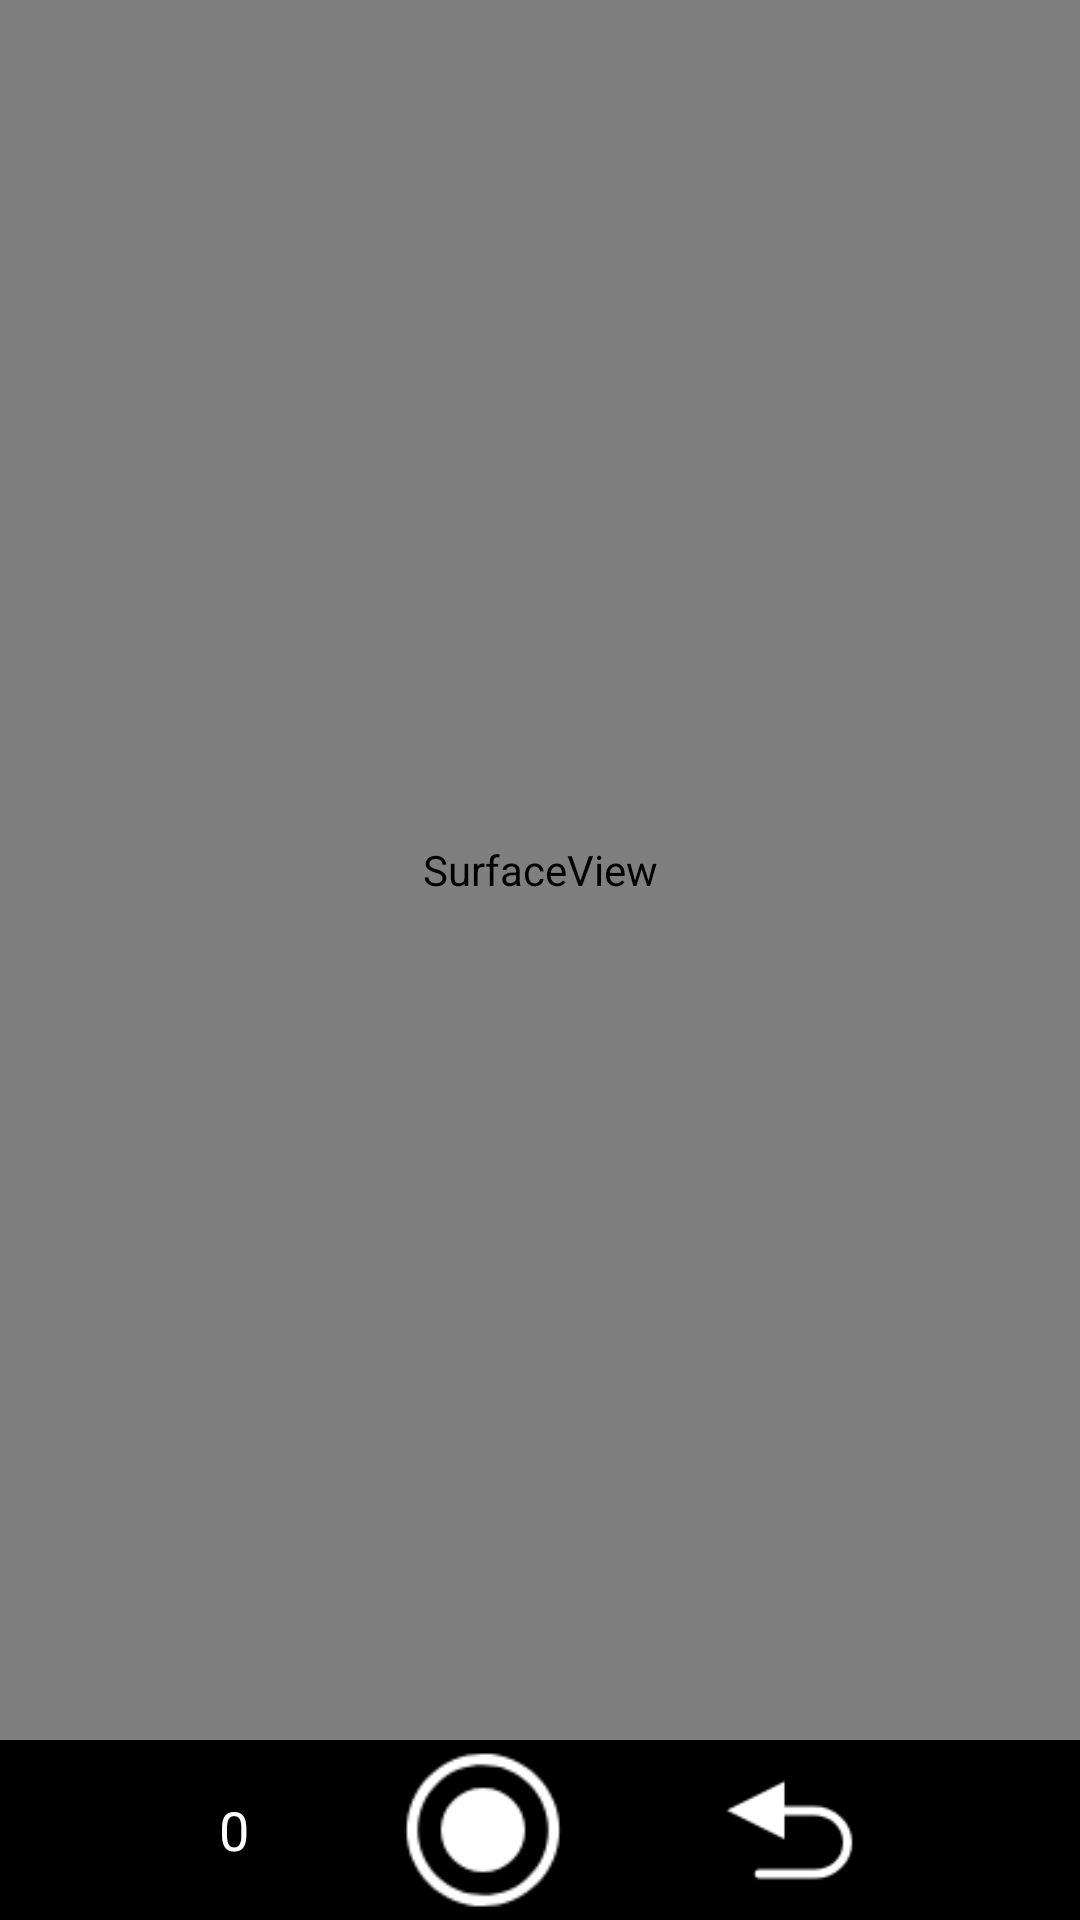

Icon bounding boxes for this 1080×1920 phone screenshot, format (x1, y1, x2, y2):
lconback: (726, 1780, 853, 1880)
recordstart: (406, 1753, 560, 1907)
